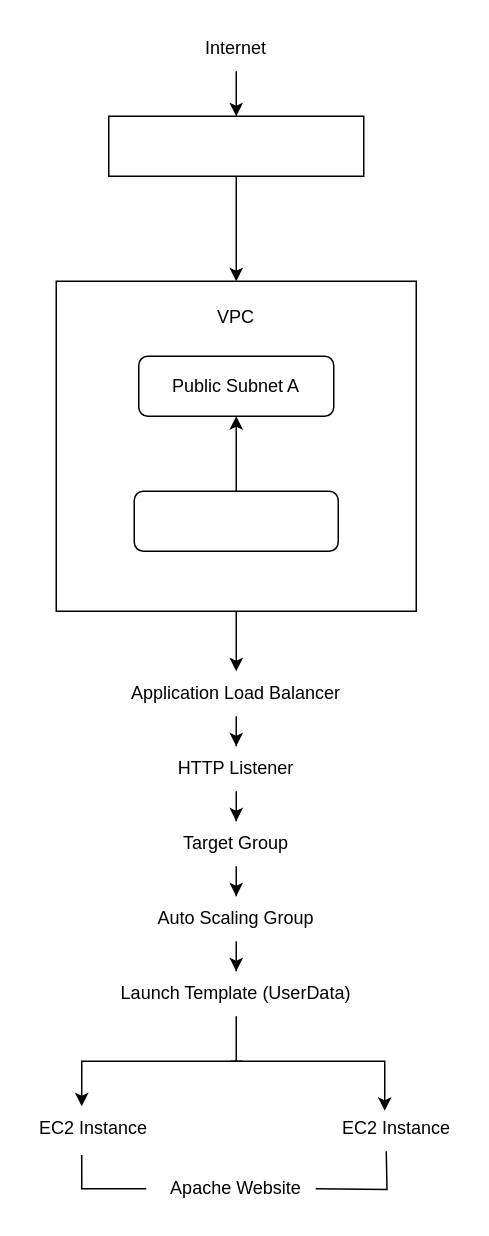
Some shapes in this 489 by 1236 pixel diagram are drawn without their labels. The shapes that lost their labels are listed below. From the top down, each one's centre as x and y in pixels, then its label:
pixel 235 145: Internt Gateway
pixel 235 520: Public Subnet B
